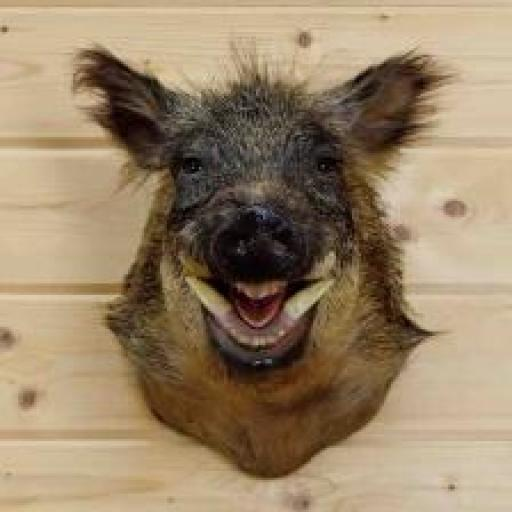Pig: (71, 39, 449, 476)
